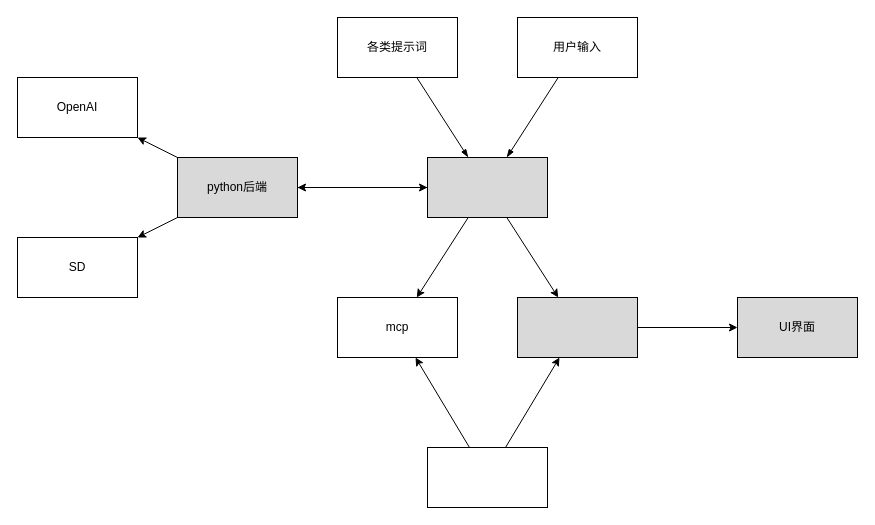
This 875x525 diagram has some shape labels left out. The shapes that lost their labels are listed below. From the top down, each one's centre as x and y in pixels, then its label:
At pixel 487 187: "godot前端".
At pixel 577 327: "数据库".
At pixel 487 477: "游戏逻辑框架".
